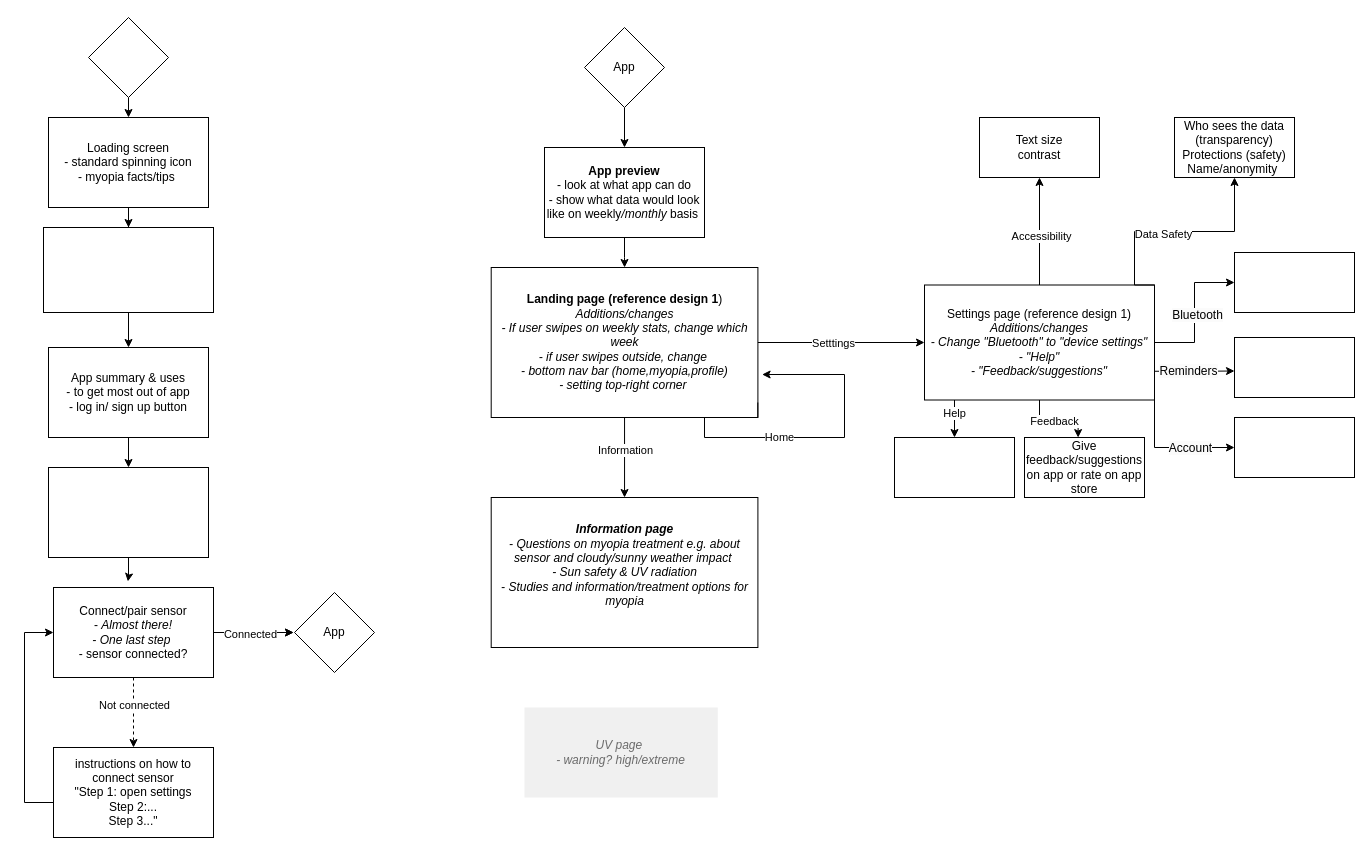
This 1372x855 diagram has some shape labels left out. Each missing label, with the box of its shape:
"Welcome to app " - Logo below welcome text - bottom right corner "Next": (42, 226, 214, 312)
App FAQs Email support: (894, 436, 1014, 498)
Enable/disable reminders on device: (1234, 336, 1354, 398)
Introduction: (88, 16, 168, 98)
Log in / sign up page - login via google/facebook?: (48, 466, 208, 558)
Log in/log out Change information such as email: (1234, 416, 1354, 478)
Reconnect if needed: (1234, 252, 1354, 312)
